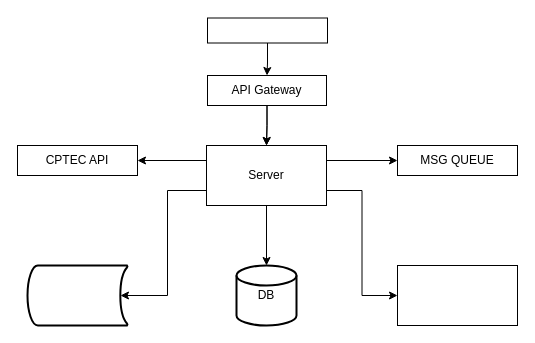
This 535x343 diagram has some shape labels left out. The shapes that lost their labels are listed below. From the top down, each one's centre as x and y in pixels, then its label:
At pixel 267 30: "WAF".
At pixel 77 295: "Cache".
At pixel 457 295: "Monitoramento Logs".
